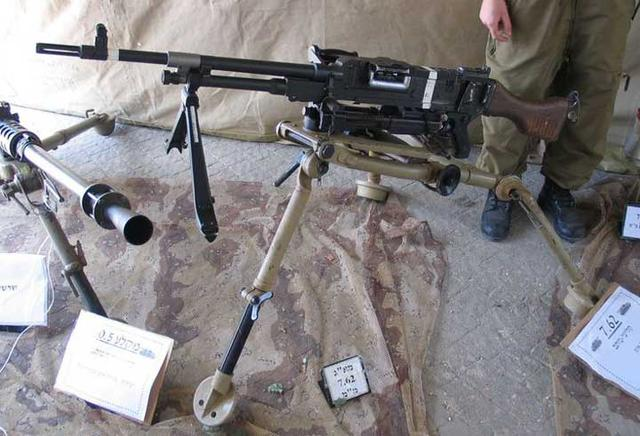rifle: (29, 38, 576, 190)
